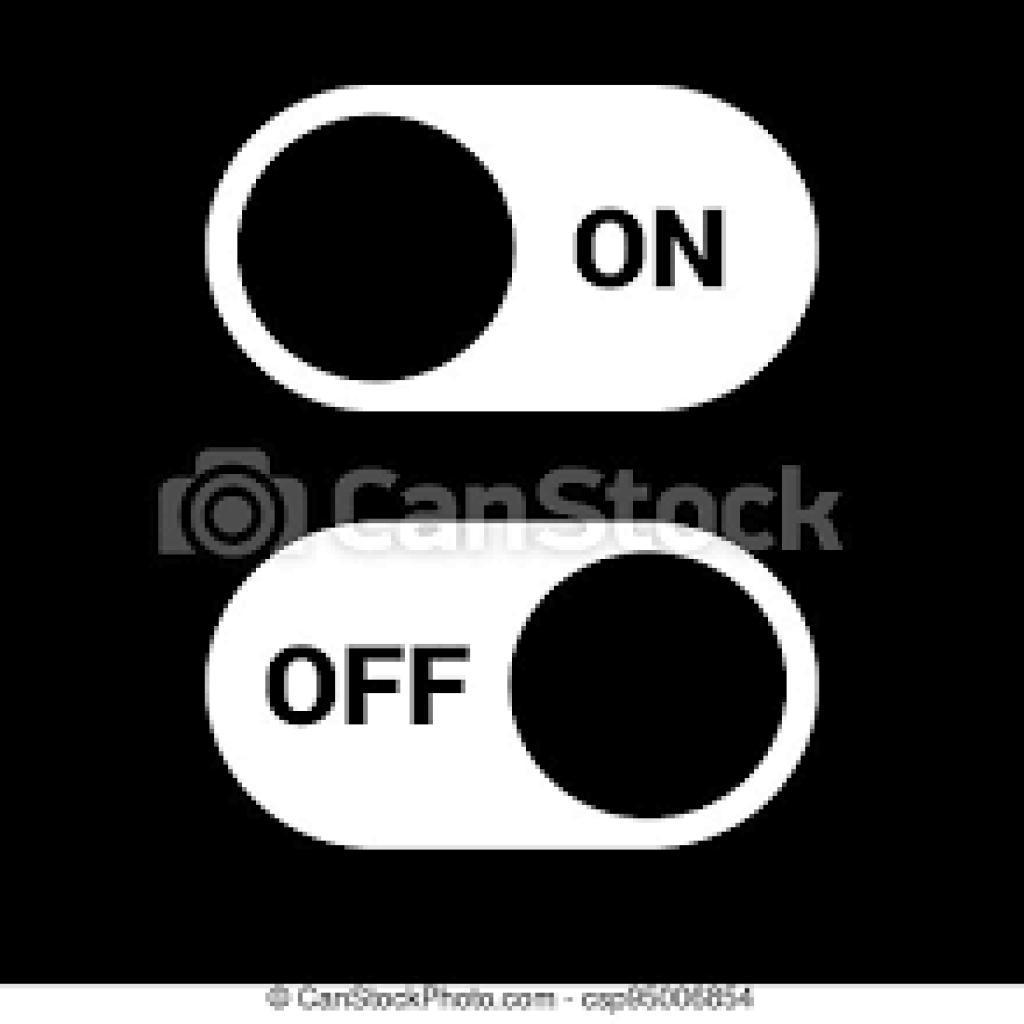switch: (200, 80, 823, 417), (201, 524, 825, 855)
